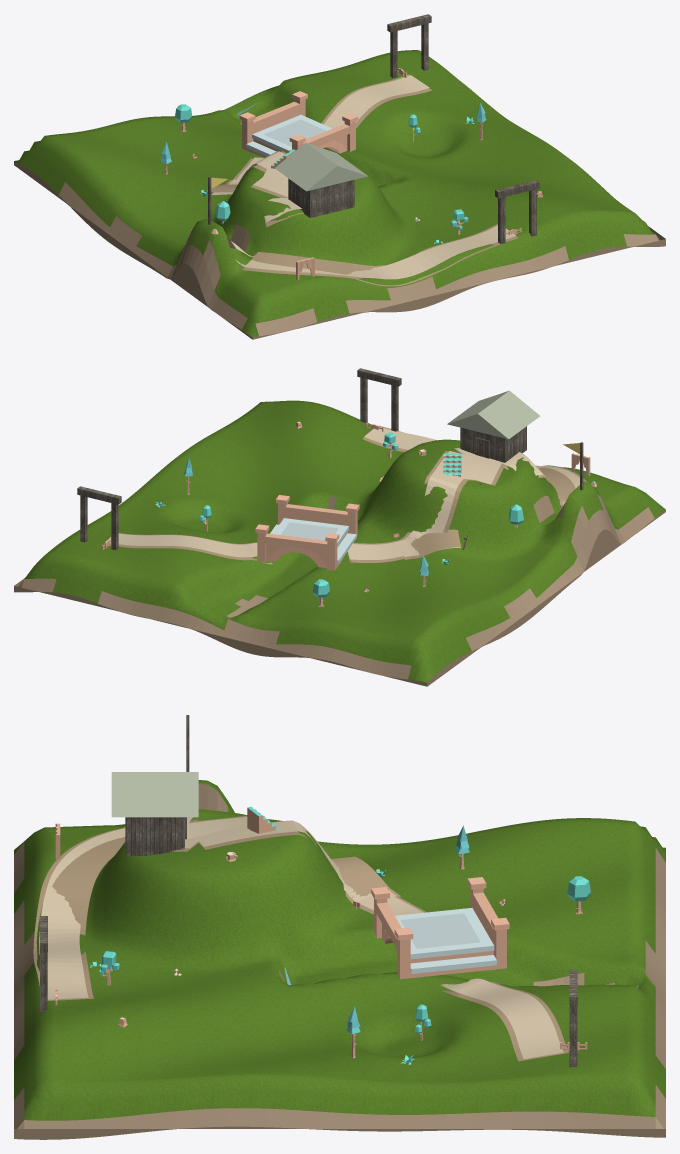
Rendered from world5_forest.glb.
3 renders of one model, top to bottom at view 1: azimuth 30°, elevation 25°; view 2: azimuth 150°, elevation 25°; view 3: azimuth 270°, elevation 25°, orthographic. The views are drawn at different scales.
Parts seen in each view (by area): view 1: W5_Terrain, bridge_woodRound, W5_Road_7, W5_HutRoof, W5_RoadCase_7, W5_Road_0, W5_HutBase, W5_RoadCase_0; view 2: W5_Terrain, bridge_woodRound, W5_HutRoof, W5_Road_1, W5_Road_0, W5_HutBase, W5_Road_7, W5_RoadCase_2, W5_RoadCase_7, W5_RoadCase_1, W5_RoadCase_0, W5_Road_3; view 3: W5_Terrain, bridge_woodRound, W5_Road_7, W5_HutRoof, W5_Road_0, W5_RoadCase_7, W5_HutBase, W5_Road_1, W5_RoadCase_2, W5_RoadCase_0, W5_Road_3.
Boxes of the visible parts, bbox=[...] form: W5_Terrain: bbox=[14, 50, 665, 339]; bridge_woodRound: bbox=[239, 91, 358, 157]; W5_Road_7: bbox=[231, 225, 515, 279]; W5_HutRoof: bbox=[275, 142, 367, 191]; W5_RoadCase_7: bbox=[236, 224, 518, 286]; W5_Road_0: bbox=[324, 75, 429, 128]; W5_HutBase: bbox=[288, 178, 354, 217]; W5_RoadCase_0: bbox=[321, 74, 431, 128]; W5_Terrain: bbox=[14, 400, 665, 686]; bridge_woodRound: bbox=[255, 495, 359, 570]; W5_HutRoof: bbox=[447, 390, 540, 439]; W5_Road_1: bbox=[347, 451, 462, 559]; W5_Road_0: bbox=[105, 533, 257, 557]; W5_HutBase: bbox=[460, 426, 526, 462]; W5_Road_7: bbox=[364, 426, 583, 505]; W5_RoadCase_2: bbox=[404, 529, 460, 559]; W5_RoadCase_7: bbox=[362, 425, 587, 508]; W5_RoadCase_1: bbox=[348, 451, 467, 562]; W5_RoadCase_0: bbox=[104, 533, 272, 564]; W5_Road_3: bbox=[470, 454, 501, 484]; W5_Terrain: bbox=[14, 780, 665, 1139]; bridge_woodRound: bbox=[371, 877, 509, 979]; W5_Road_7: bbox=[39, 828, 125, 999]; W5_HutRoof: bbox=[111, 772, 198, 817]; W5_Road_0: bbox=[440, 978, 563, 1059]; W5_RoadCase_7: bbox=[33, 827, 125, 1000]; W5_HutBase: bbox=[125, 817, 184, 855]; W5_Road_1: bbox=[199, 820, 423, 915]; W5_RoadCase_2: bbox=[331, 856, 400, 897]; W5_RoadCase_0: bbox=[442, 981, 568, 1061]; W5_Road_3: bbox=[185, 817, 247, 839].
Size of the model in its own units: 24 by 7.13 by 24.
Materials: 22 (2 with a texture image).
